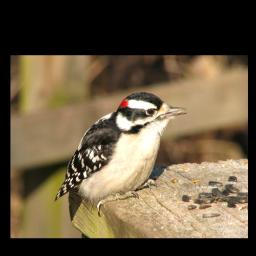Woodpecker: (52, 93, 190, 217)
